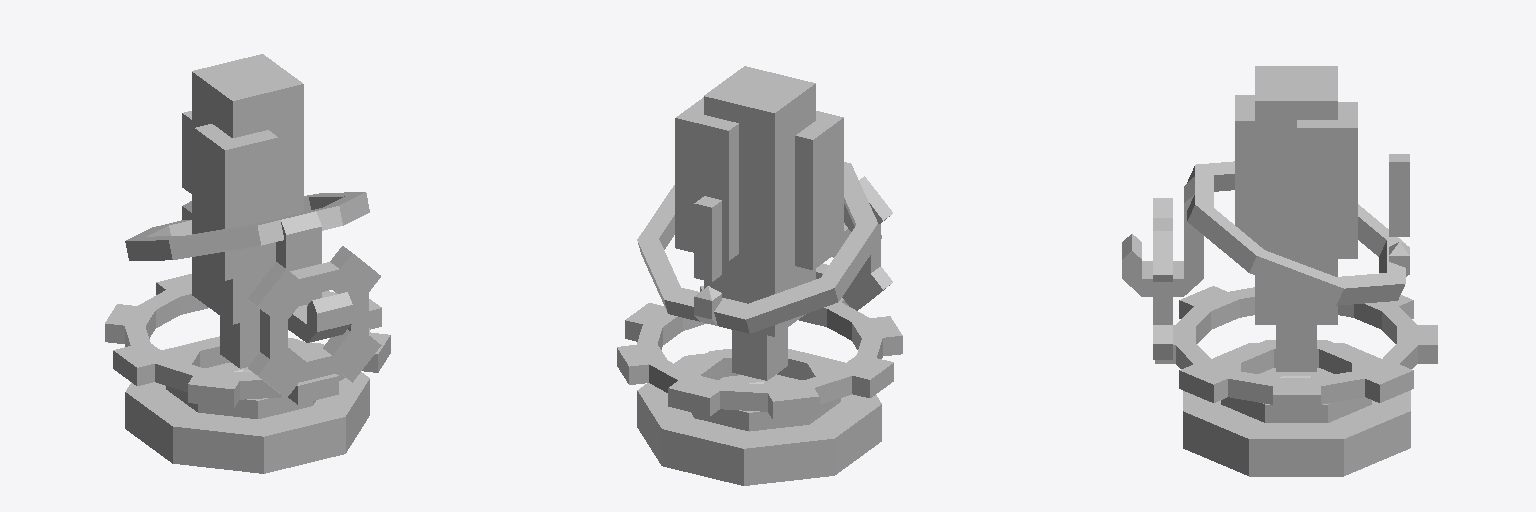
The model's file is lodestar_inventory.obj.
3 views of the same model, side by side, from view 1: azimuth 30°, elevation 25°; view 2: azimuth 150°, elevation 25°; view 3: azimuth 270°, elevation 25° (orthographic).
Parts seen in each view (by area): view 1: BASE_Cylinder, CRYSTAL_CENTER_Cube.006, STABILIZER_Cube.002, GEAR_SMALL_Cylinder.002, CRYSTAL_SMALL_Cube.005; view 2: BASE_Cylinder, CRYSTAL_CENTER_Cube.006, STABILIZER_Cube.002, GEAR_SMALL_Cylinder.002, CRYSTAL_SMALL_Cube.005; view 3: BASE_Cylinder, CRYSTAL_CENTER_Cube.006, STABILIZER_Cube.002, GEAR_SMALL_Cylinder.002, CRYSTAL_SMALL_Cube.005.
Boxes of the visible parts, <box> form: BASE_Cylinder: <box>105,274,390,473</box>; CRYSTAL_CENTER_Cube.006: <box>192,54,303,368</box>; STABILIZER_Cube.002: <box>125,192,369,342</box>; GEAR_SMALL_Cylinder.002: <box>248,246,381,398</box>; CRYSTAL_SMALL_Cube.005: <box>182,111,191,193</box>; BASE_Cylinder: <box>617,286,902,485</box>; CRYSTAL_CENTER_Cube.006: <box>675,66,843,380</box>; STABILIZER_Cube.002: <box>637,162,881,333</box>; GEAR_SMALL_Cylinder.002: <box>816,176,892,310</box>; CRYSTAL_SMALL_Cube.005: <box>694,196,721,281</box>; BASE_Cylinder: <box>1155,286,1437,476</box>; CRYSTAL_CENTER_Cube.006: <box>1235,66,1357,371</box>; STABILIZER_Cube.002: <box>1122,161,1409,305</box>; GEAR_SMALL_Cylinder.002: <box>1153,198,1172,359</box>; CRYSTAL_SMALL_Cube.005: <box>1389,154,1409,236</box>.
Size of the model in its own units: 0.8606 by 1.16 by 0.9615.